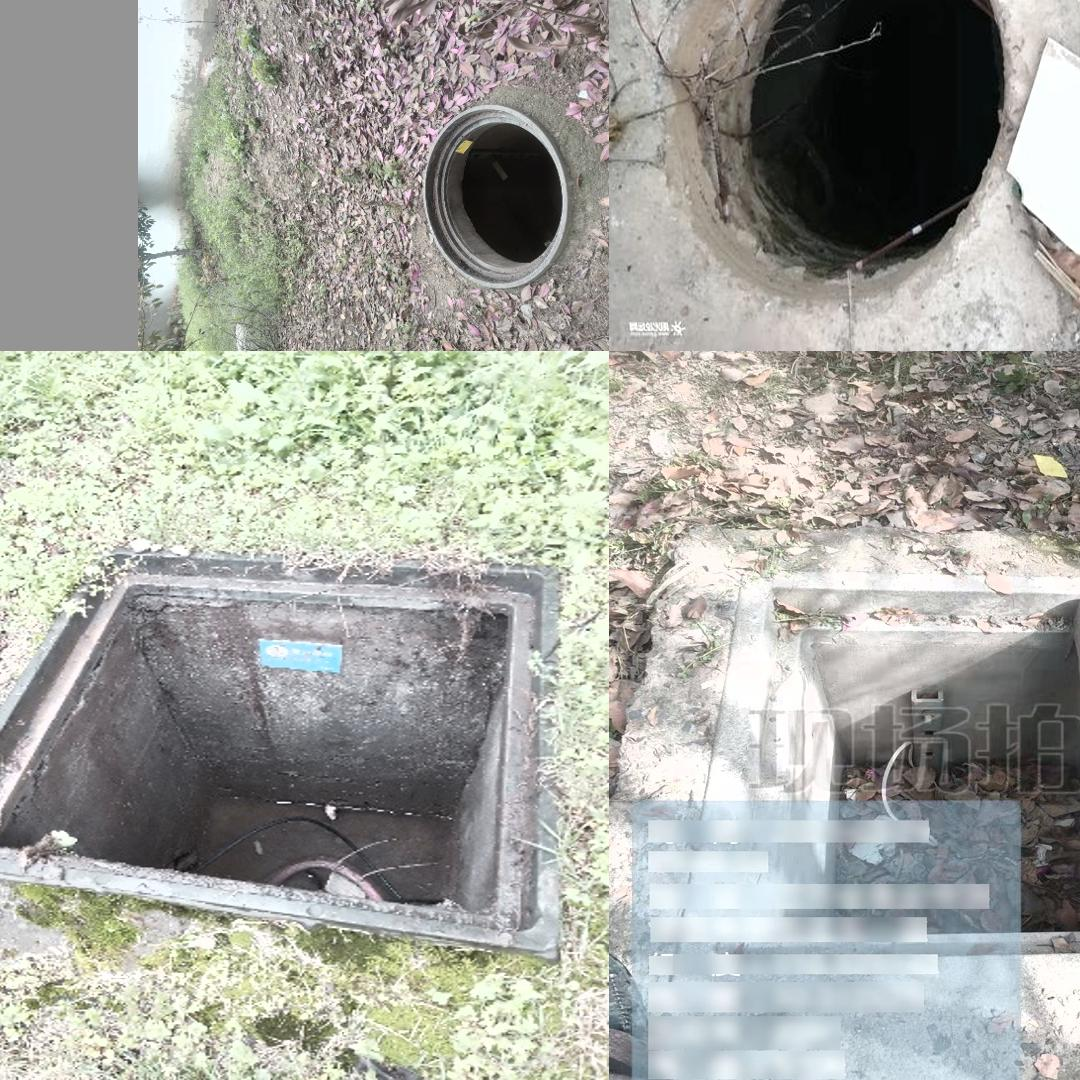lose: (0, 541, 562, 957), (653, 557, 1080, 1059), (657, 0, 1027, 312), (422, 103, 568, 288)
